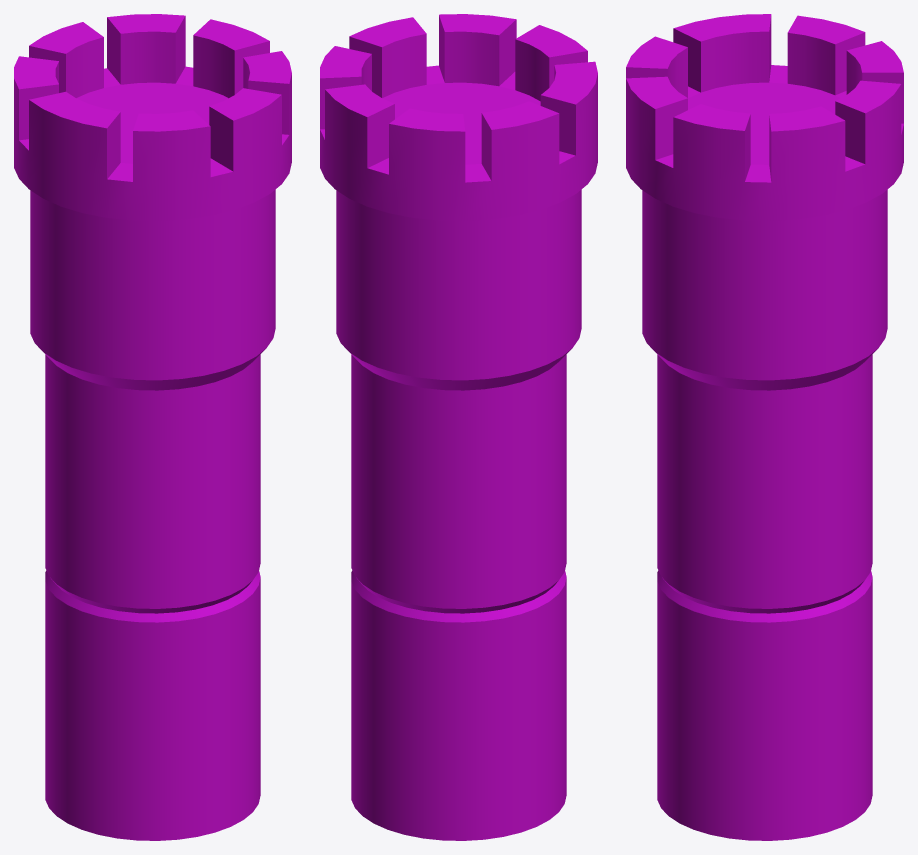
File: Tower2.fbx
3 renders of one model, left to right at view 1: azimuth 30°, elevation 25°; view 2: azimuth 150°, elevation 25°; view 3: azimuth 270°, elevation 25°, orthographic.
Visible parts, largest first — view 1: Cylinder.021; view 2: Cylinder.021; view 3: Cylinder.021.
Boxes of the visible parts, x1,y1,x2,y2 form: Cylinder.021: (14,14,291,840); Cylinder.021: (320,14,597,840); Cylinder.021: (626,14,903,840).
Bounding box in the file's own units: 2.58 × 2.57 × 7.39.
